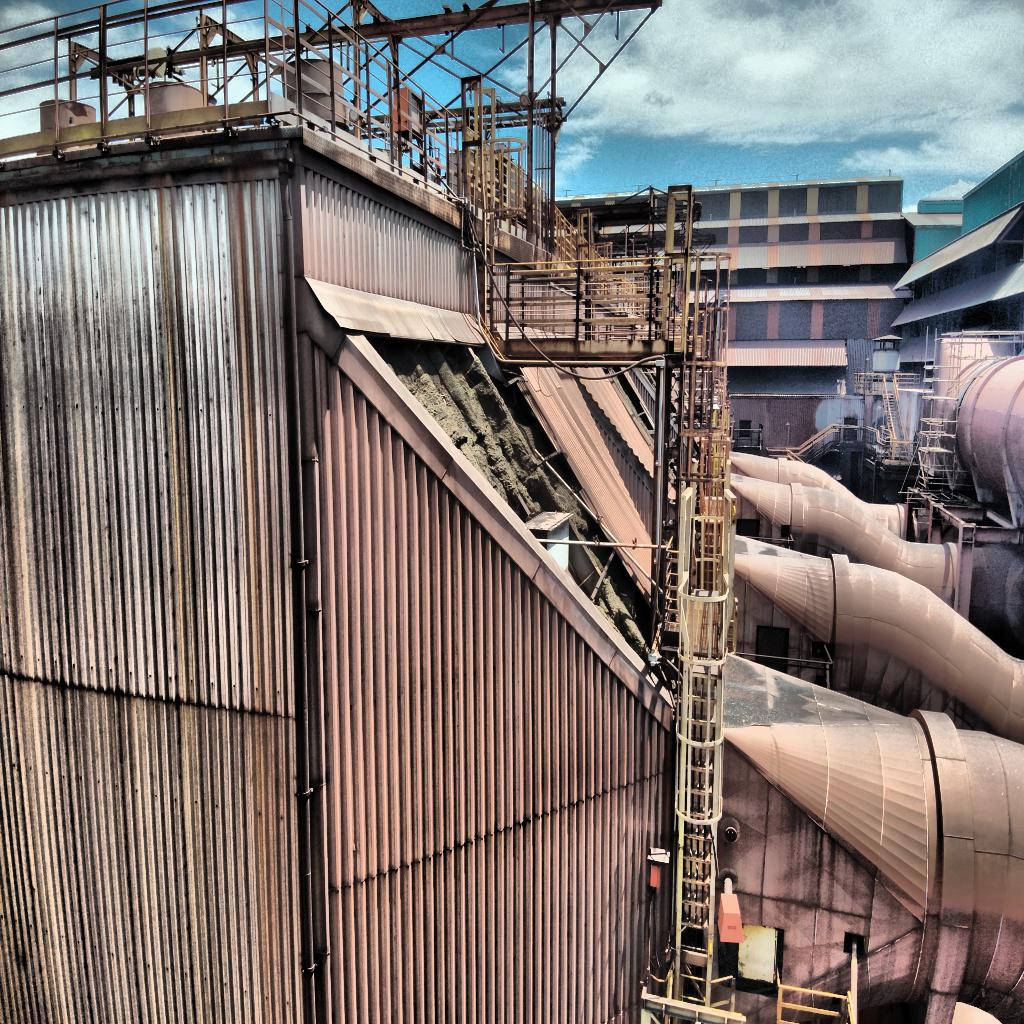Failures: (346, 293, 677, 751)
